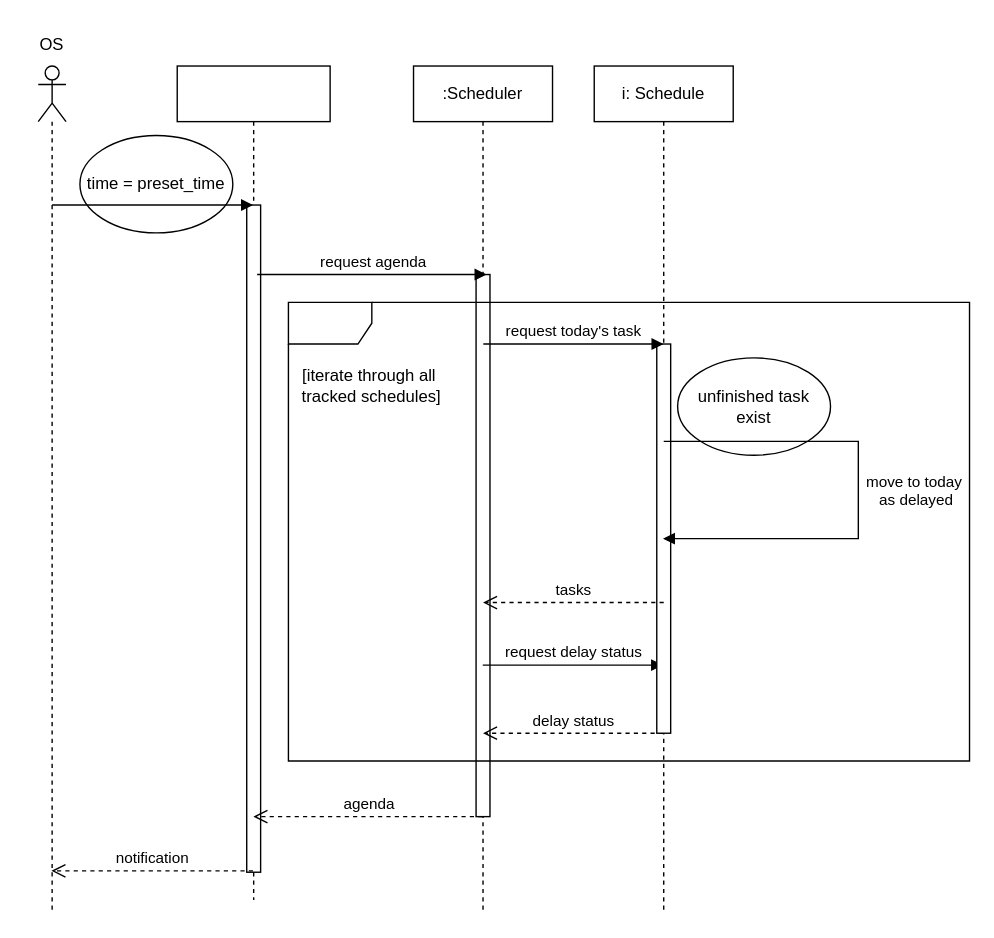
Image size: 994x938. Some labels were removed from this diagram. The box of each missing label's shape, as (x1, y1, x2, y2) in pixels:
:NotificationService: (176, 65, 330, 900)
Loop: (287, 301, 970, 761)
